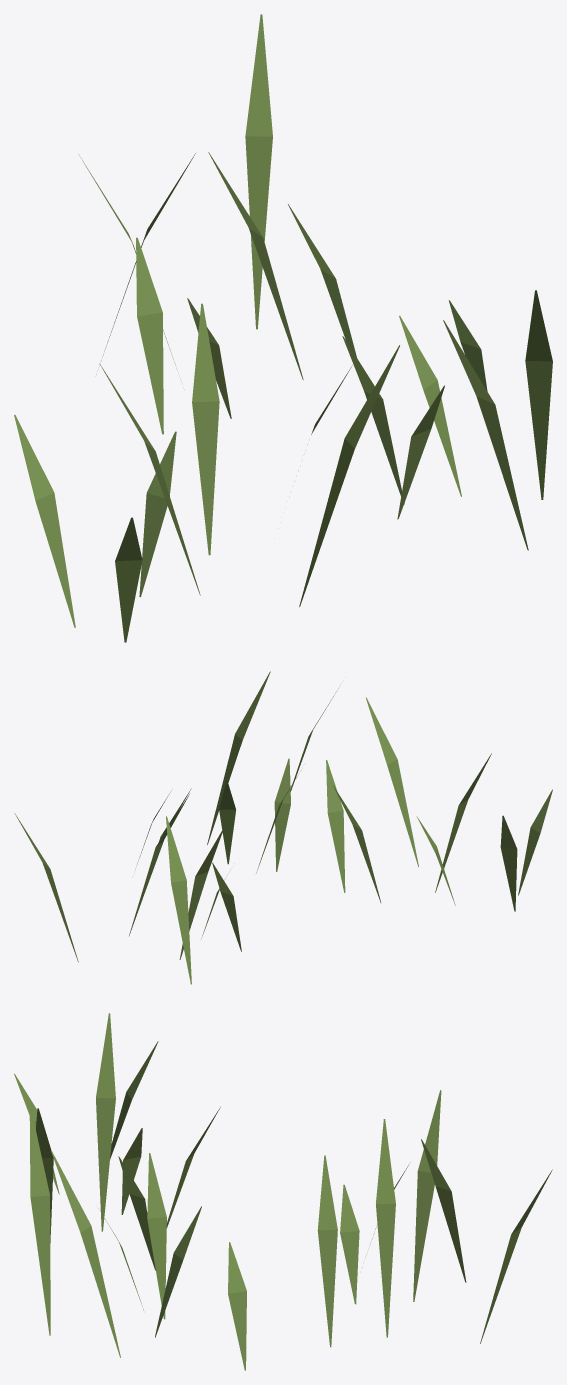
File: short_grass_lod1.glb
The picture shows the model from 3 angles, top to bottom: view 1: azimuth 30°, elevation 25°; view 2: azimuth 150°, elevation 25°; view 3: azimuth 270°, elevation 25°; orthographic projection. The views are drawn at different scales.
Parts seen in each view (by area): view 1: Leaves; view 2: Leaves; view 3: Leaves.
Boxes of the visible parts, x1=… form: Leaves: x1=14, y1=14, x2=552, y2=642; Leaves: x1=14, y1=671, x2=552, y2=984; Leaves: x1=14, y1=1013, x2=552, y2=1370.
Bounding box in the file's own units: 0.5615 × 0.2644 × 0.6664.
